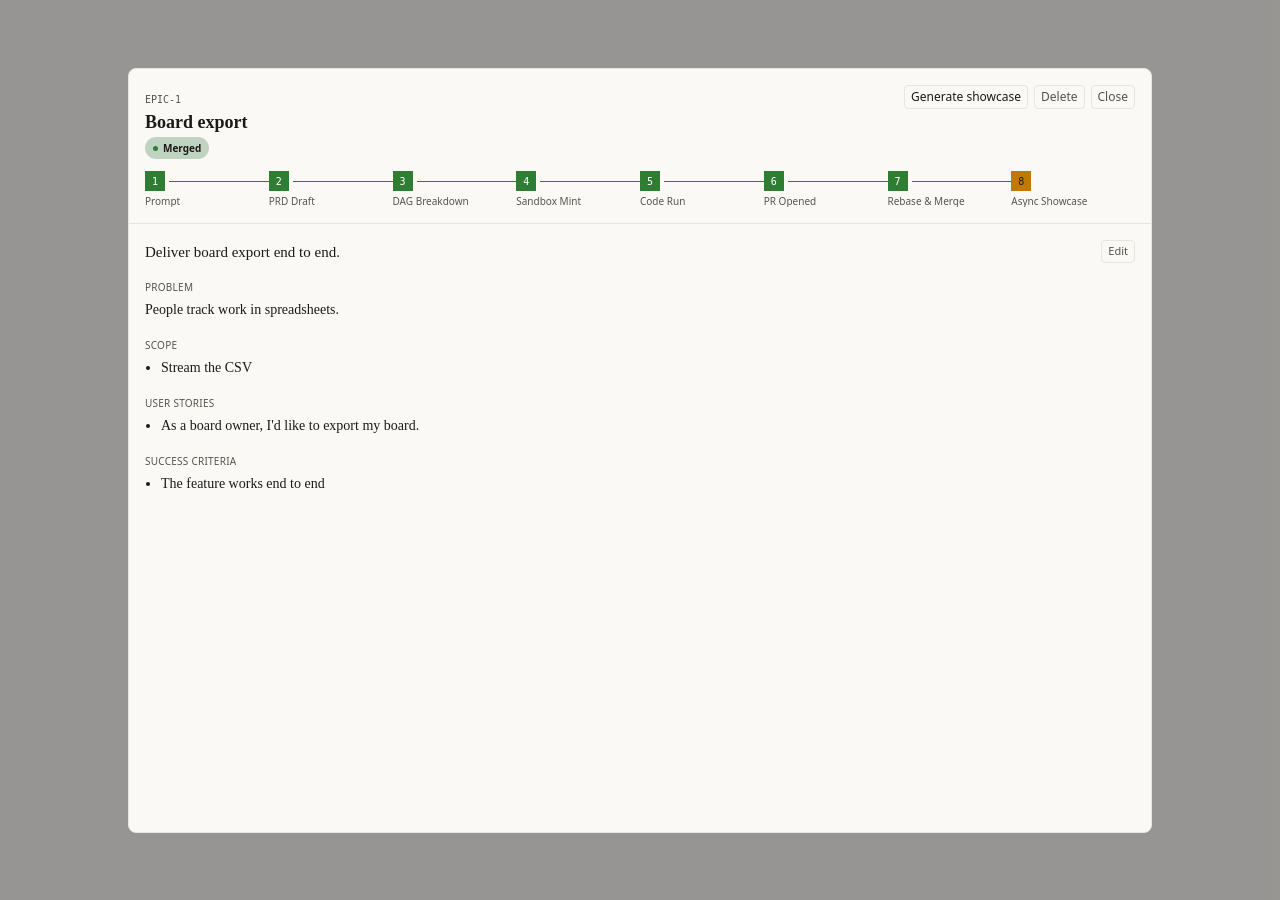
Test: EpicDrawer › generating a showcase › shows the error when the request fails
Click the button "Generate showcase": (966, 96) x1=904 y1=84 x2=1028 y2=108
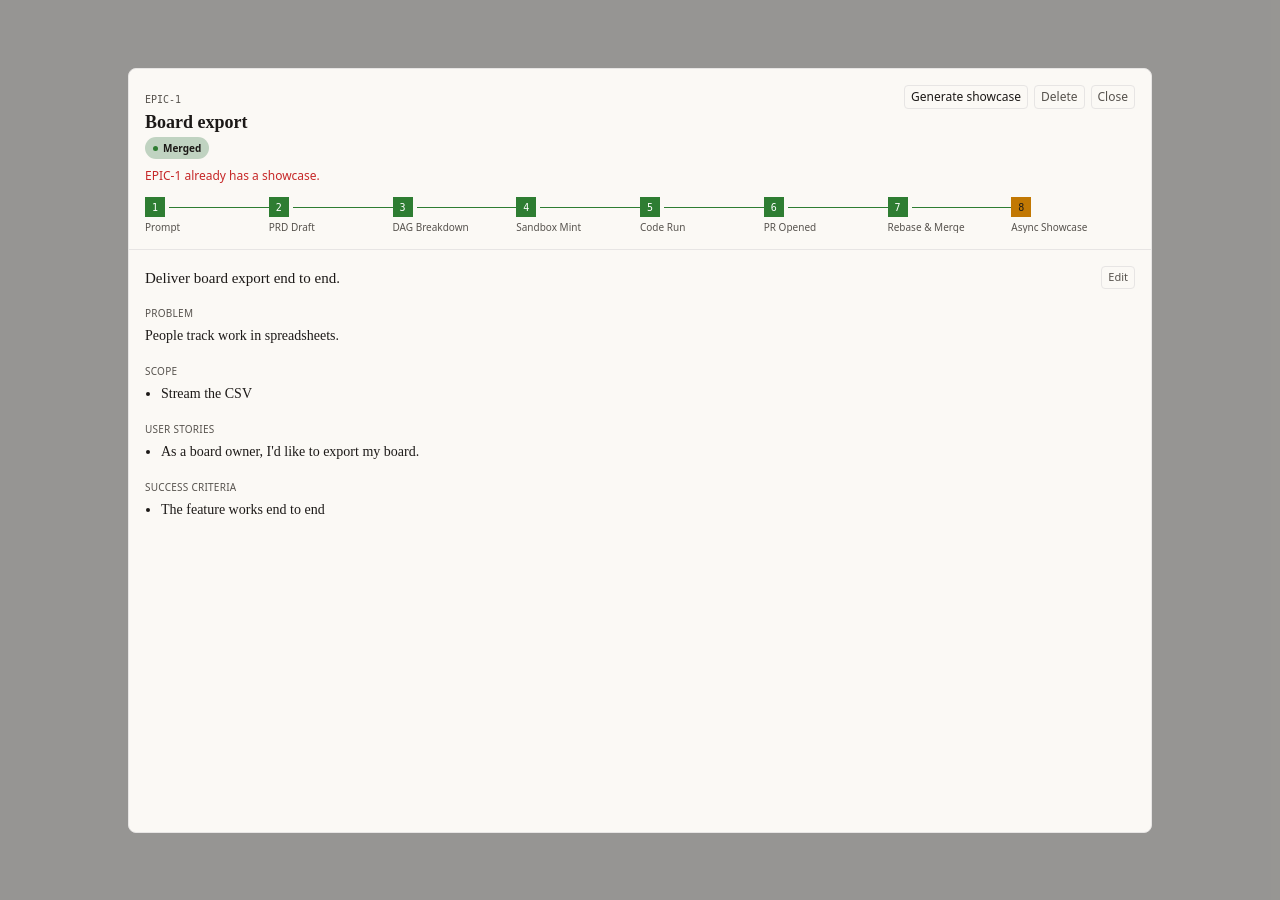
Expected: the message reads "EPIC-1 already has a showcase.", x1=145 y1=167 x2=320 y2=184
